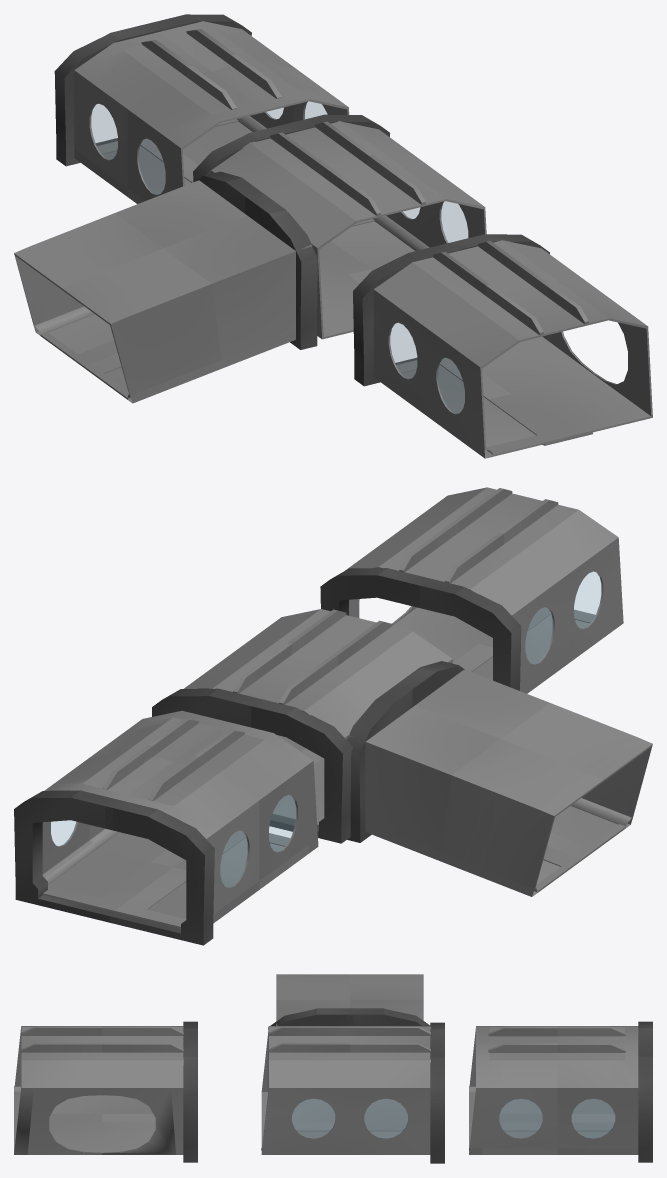
The model's file is Additions02.fbx.
3 views of the same model, one above another, from view 1: azimuth 30°, elevation 25°; view 2: azimuth 150°, elevation 25°; view 3: azimuth 270°, elevation 25° (orthographic). The views are drawn at different scales.
Visible parts, largest first — view 1: 1DoorSectionDown002, 1DoorSectionBase002, 1WindowOriginal001; view 2: 1DoorSectionDown002, 1WindowOriginal001, 1DoorSectionBase002; view 3: 1DoorSectionDown002, 1WindowOriginal001, 1DoorSectionBase002.
Part boxes in pixels (x1,y1,x2,y2): 1DoorSectionDown002: (14,114,486,403); 1DoorSectionBase002: (353,234,652,458); 1WindowOriginal001: (54,14,349,203); 1DoorSectionDown002: (152,609,652,896); 1WindowOriginal001: (14,710,318,945); 1DoorSectionBase002: (320,487,623,693); 1DoorSectionDown002: (261,974,444,1163); 1WindowOriginal001: (469,1021,652,1162); 1DoorSectionBase002: (14,1021,197,1162).
Bounding box in the file's own units: 446 × 161 × 854.
4 materials, 2 textured.
